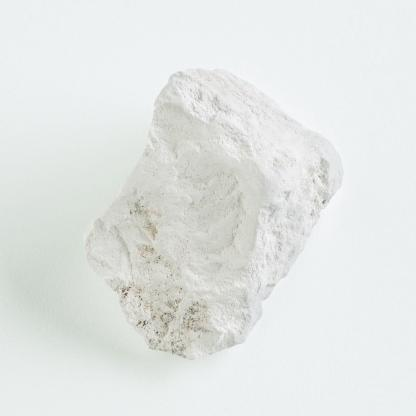Sedimentary_Chalk: (82, 61, 351, 361)
